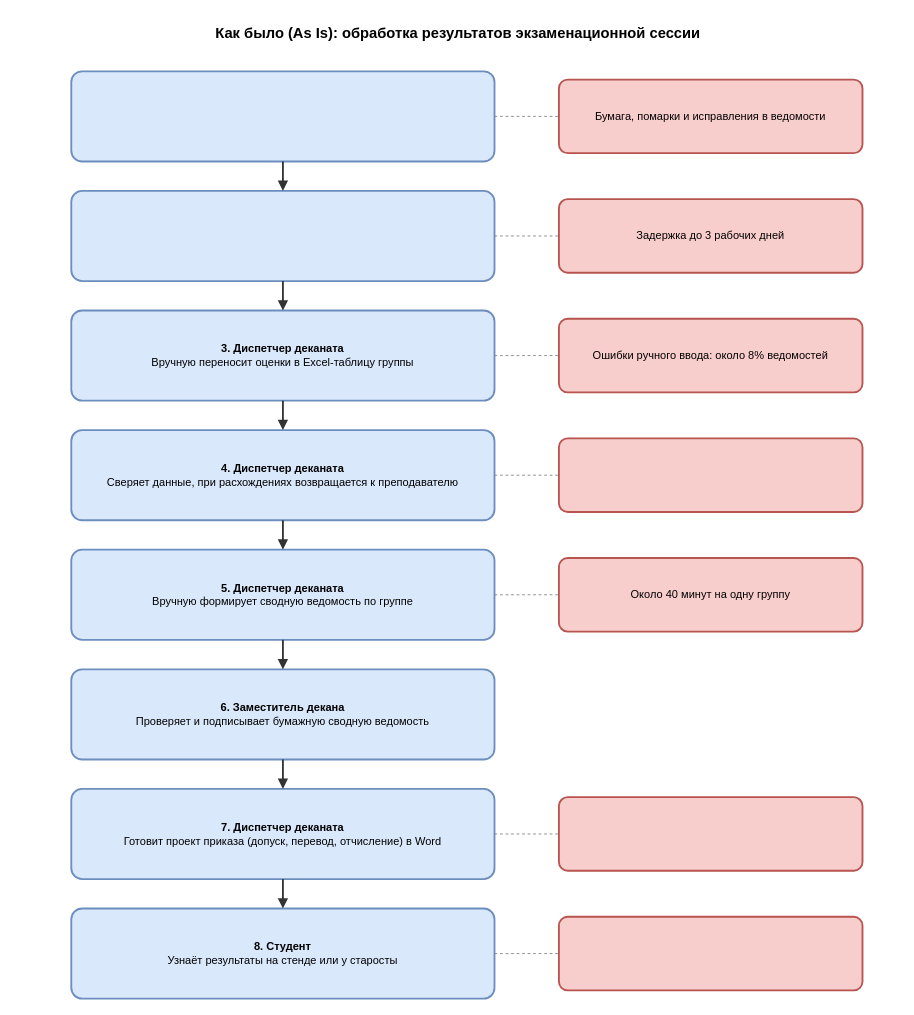
This 914x1015 diagram has some shape labels left out. The shapes that lost their labels are listed below. From the top down, each one's centre as x and y in pixels, then its label:
At (282,116): "1. Преподаватель Принимает экзамен, оформляет бумажную ведомость".
At (282,236): "2. Преподаватель Лично относит ведомость в деканат".
At (710,474): "Повторные обращения, потеря времени".
At (710,833): "Одни и те же данные в нескольких файлах".
At (710,953): "Нет оперативного доступа к своим данным".
